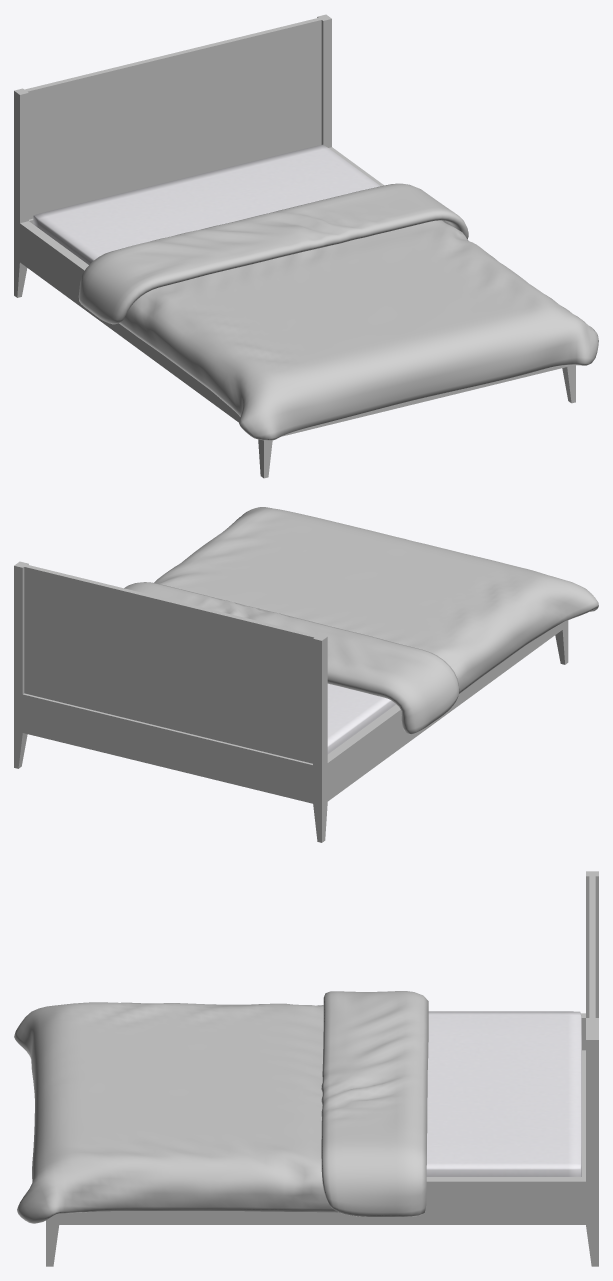
The model's file is Bed06.fbx.
3 renders of one model, top to bottom at view 1: azimuth 30°, elevation 25°; view 2: azimuth 150°, elevation 25°; view 3: azimuth 270°, elevation 25°, orthographic. The views are drawn at different scales.
Parts seen in each view (by area): view 1: Blanket06, BedFrame06, Mattress06; view 2: BedFrame06, Blanket06, Mattress06; view 3: Blanket06, Mattress06, BedFrame06.
Part boxes in pixels (<box>): Blanket06: <box>78,183,598,440</box>; BedFrame06: <box>14,14,575,478</box>; Mattress06: <box>33,144,380,264</box>; BedFrame06: <box>14,561,568,842</box>; Blanket06: <box>124,507,598,734</box>; Mattress06: <box>327,683,395,754</box>; Blanket06: <box>14,991,428,1223</box>; Mattress06: <box>426,1011,581,1176</box>; BedFrame06: <box>46,871,598,1266</box>.
Size of the model in its own units: 188 by 101 by 237.
